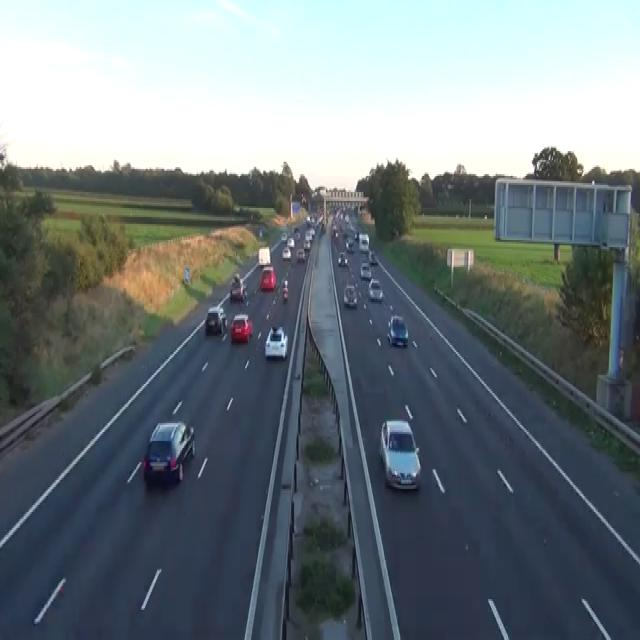Car: (142, 419, 195, 484), (379, 418, 421, 490), (264, 325, 288, 359), (386, 314, 408, 346), (230, 313, 252, 343), (205, 306, 227, 334), (229, 274, 247, 302), (260, 265, 276, 290), (367, 278, 383, 300), (343, 284, 357, 308), (359, 261, 371, 279), (337, 250, 348, 266), (281, 278, 288, 300), (281, 246, 291, 260), (306, 213, 316, 226), (368, 249, 377, 263), (296, 247, 305, 261), (305, 228, 314, 242), (345, 237, 354, 250), (232, 272, 240, 284), (331, 224, 338, 236), (308, 226, 315, 238), (241, 284, 247, 298), (286, 237, 294, 247), (280, 231, 287, 242), (281, 277, 288, 288), (303, 238, 310, 249), (283, 286, 288, 300), (294, 229, 300, 240), (317, 213, 323, 224), (301, 192, 306, 204), (293, 226, 300, 234), (354, 229, 358, 240), (258, 228, 262, 238), (344, 214, 349, 222)
Truck: (258, 245, 270, 265)
